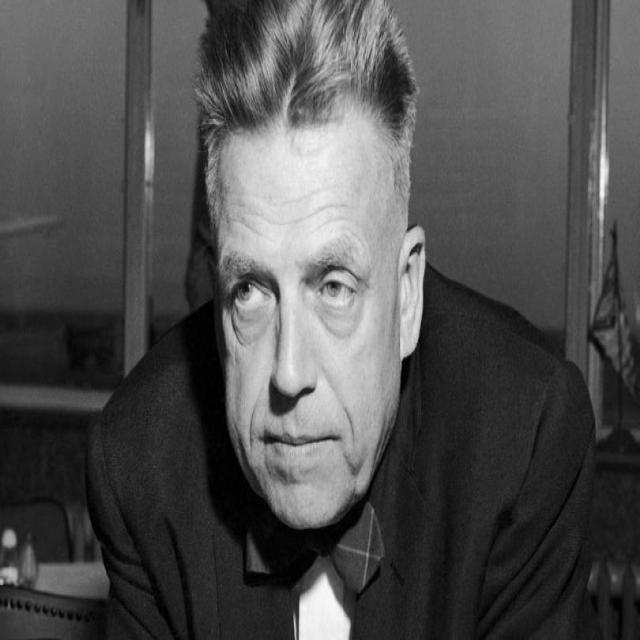human: (86, 0, 599, 640)
